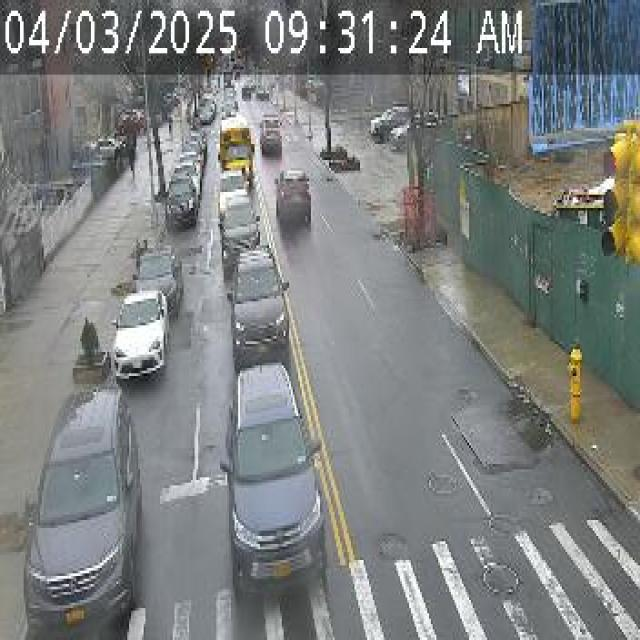open parking: (118, 164, 205, 348), (178, 92, 220, 159)
